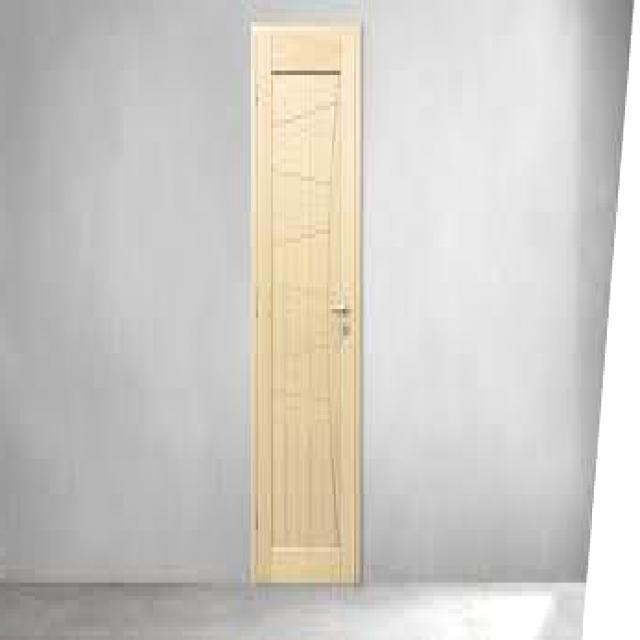door: (250, 22, 361, 585)
